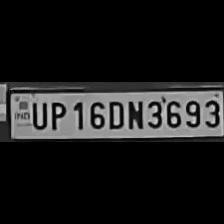1: (67, 99, 85, 130)
3: (144, 97, 162, 129), (202, 96, 220, 128)
6: (86, 98, 106, 130), (164, 97, 181, 128)
9: (183, 97, 201, 128)
D: (106, 98, 124, 130)
N: (125, 98, 142, 130)
P: (47, 99, 67, 130)
U: (28, 99, 48, 129)
